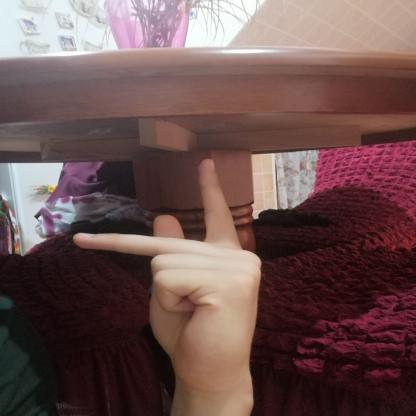DHAA: (58, 146, 286, 390)
